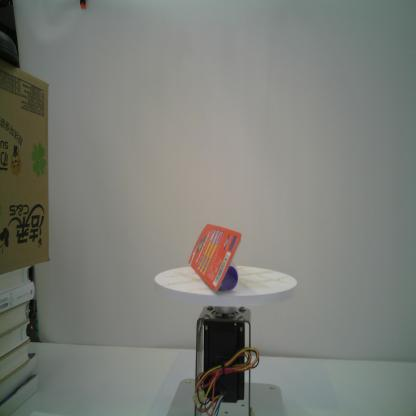Personal Hygiene: (188, 223, 242, 293)
